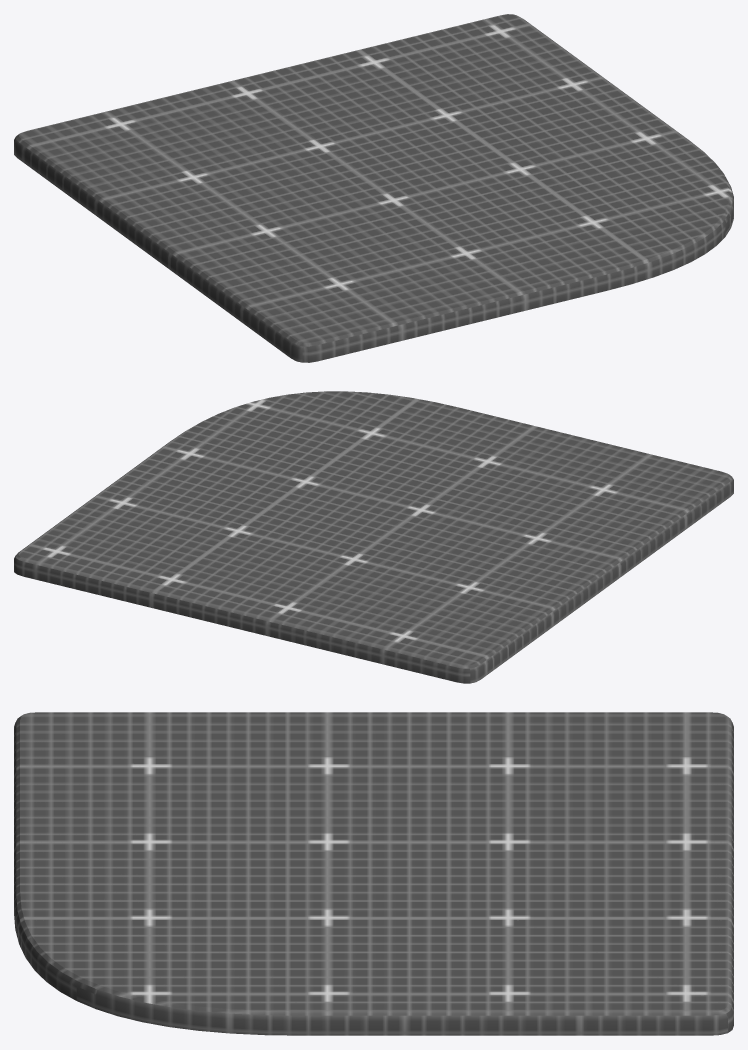
The model's file is CornerThin_MESH.fbx.
3 views of the same model, one above another, from view 1: azimuth 30°, elevation 25°; view 2: azimuth 150°, elevation 25°; view 3: azimuth 270°, elevation 25° (orthographic). The views are drawn at different scales.
Visible parts, largest first — view 1: CornerThin; view 2: CornerThin; view 3: CornerThin.
Boxes of the visible parts, x1,y1,x2,y2 form: CornerThin: (14, 14, 733, 362); CornerThin: (14, 391, 733, 683); CornerThin: (14, 712, 733, 1035).
Bounding box in the file's own units: 300 × 10 × 300.
Materials: 1 (1 with a texture image).
